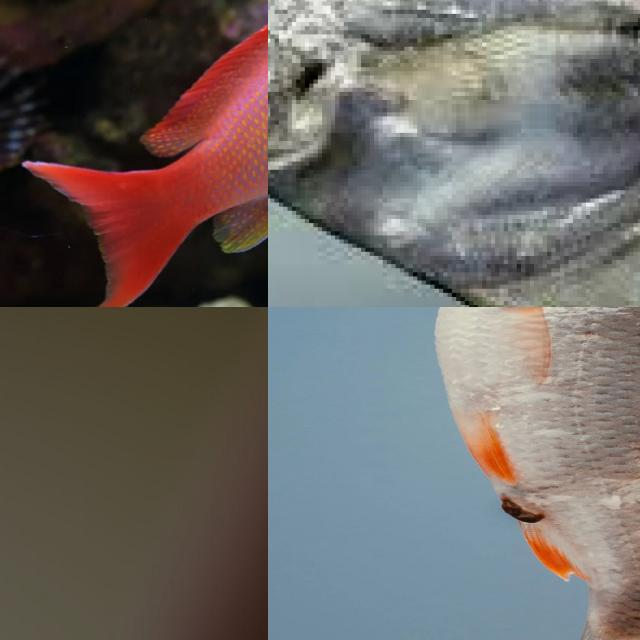fish: (268, 0, 640, 307), (268, 307, 640, 539), (0, 0, 268, 307), (0, 463, 268, 640)
